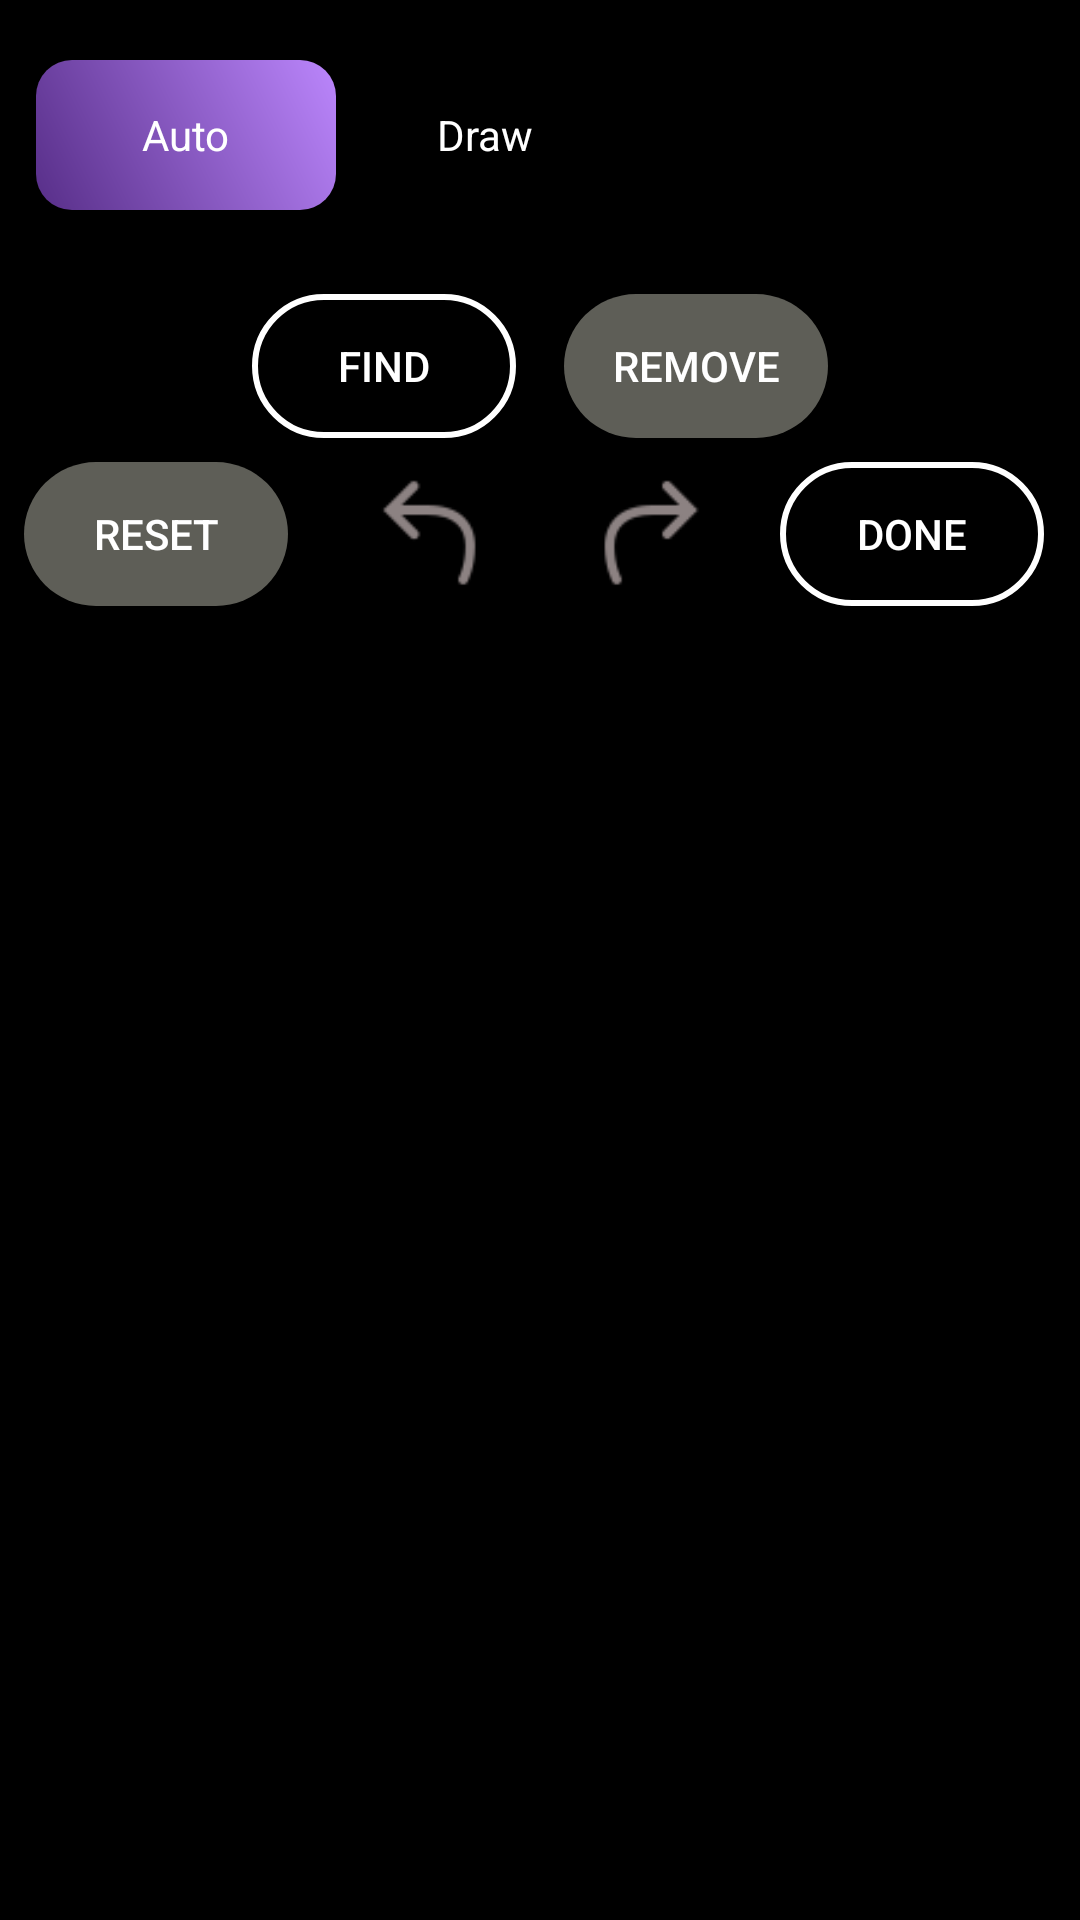

Icon bounding boxes for this 1080x1920 phone screenshot, format (x1=x1, y1=y1, x2=x2, y2=y2):
redo unenable: (x1=604, y1=480, x2=698, y2=585)
undo unenabe: (x1=383, y1=480, x2=476, y2=585)
